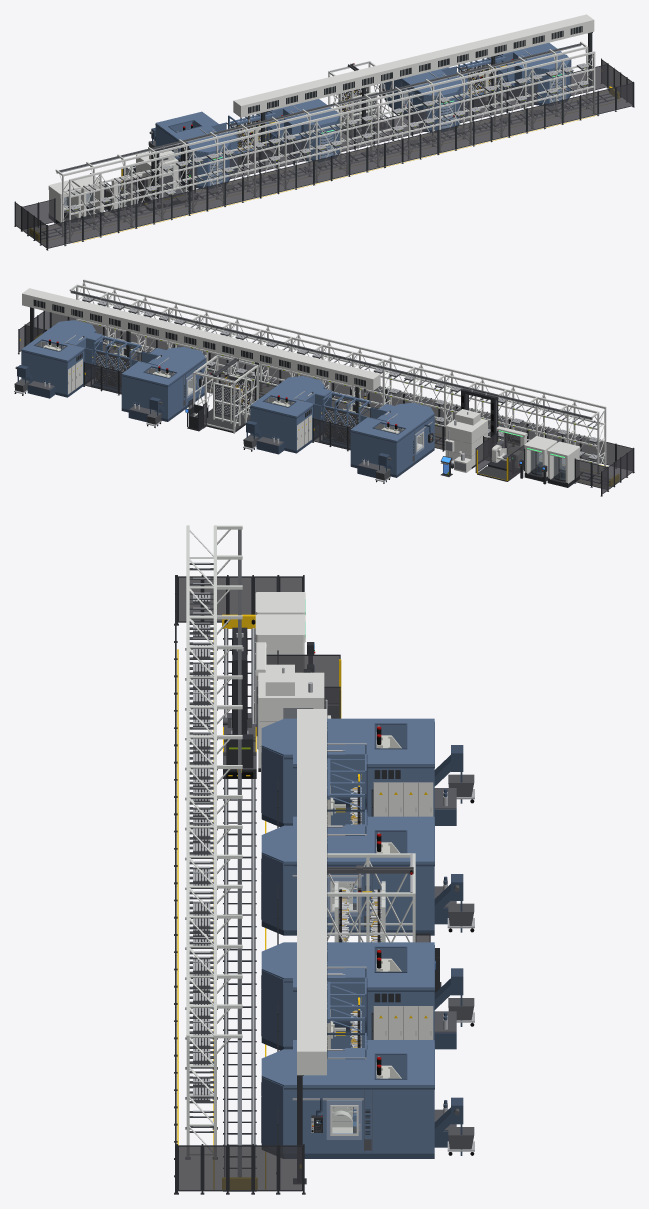
The model's file is fms_line_4hmc_blue.glb.
The picture shows the model from 3 angles, top to bottom: view 1: azimuth 30°, elevation 25°; view 2: azimuth 150°, elevation 25°; view 3: azimuth 270°, elevation 25°; orthographic projection. The views are drawn at different scales.
Visible parts, largest first — view 1: RACK_rack_frame__truss_white, FB_fence__mesh, TG_tg_beam__hmc_white, FB_fence__anthracite, RACK_rack_frame__steel_dark, TG_tg_beam__anthracite, MT1_enclosure__fms_blue, MT3_enclosure__fms_blue, RACK_rack_frame__steel, FG6_fence__mesh, FG5_fence__mesh, FG7_fence__mesh (+19 smaller); view 2: RACK_rack_frame__truss_white, TG_tg_beam__hmc_white, FB_fence__mesh, MT1_enclosure__fms_blue, MT3_enclosure__fms_blue, MT2_enclosure__fms_blue, MT4_enclosure__fms_blue, RACK_rack_frame__steel_dark, CTR_ctr_frame__truss_white, TG_tg_beam__anthracite, WASH_wash_cabinet__hmc_white, RACK_rack_frame__steel (+35 smaller); view 3: MT4_enclosure__fms_blue, RACK_rack_frame__truss_white, TG_tg_beam__hmc_white, MT2_enclosure__fms_blue, RACK_rack_frame__steel_dark, MT1_enclosure__fms_blue, MT3_enclosure__fms_blue, FE47_fence__mesh, trk_track__steel_dark, WASH_wash_cabinet__hmc_white, MT2_apc_housing__fms_blue, MT1_apc_housing__fms_blue (+28 smaller).
Part boxes in pixels (x1=…): RACK_rack_frame__truss_white: x1=55, y1=41, x2=595, y2=241; FB_fence__mesh: x1=48, y1=83, x2=632, y2=247; TG_tg_beam__hmc_white: x1=233, y1=14, x2=594, y2=117; FB_fence__anthracite: x1=47, y1=82, x2=634, y2=250; RACK_rack_frame__steel_dark: x1=56, y1=43, x2=589, y2=227; TG_tg_beam__anthracite: x1=248, y1=26, x2=592, y2=165; MT1_enclosure__fms_blue: x1=155, y1=111, x2=237, y2=174; MT3_enclosure__fms_blue: x1=385, y1=67, x2=467, y2=125; RACK_rack_frame__steel: x1=56, y1=45, x2=587, y2=218; FG6_fence__mesh: x1=341, y1=109, x2=427, y2=151; FG5_fence__mesh: x1=229, y1=138, x2=307, y2=178; FG7_fence__mesh: x1=459, y1=82, x2=537, y2=122; RACK_rack_frame__truss_white: x1=69, y1=279, x2=606, y2=473; TG_tg_beam__hmc_white: x1=22, y1=288, x2=380, y2=390; FB_fence__mesh: x1=51, y1=312, x2=632, y2=469; MT1_enclosure__fms_blue: x1=350, y1=404, x2=432, y2=475; MT3_enclosure__fms_blue: x1=121, y1=348, x2=203, y2=419; MT2_enclosure__fms_blue: x1=250, y1=379, x2=331, y2=450; MT4_enclosure__fms_blue: x1=21, y1=323, x2=102, y2=394; RACK_rack_frame__steel_dark: x1=70, y1=290, x2=600, y2=461; CTR_ctr_frame__truss_white: x1=193, y1=355, x2=258, y2=433; TG_tg_beam__anthracite: x1=30, y1=299, x2=365, y2=425; WASH_wash_cabinet__hmc_white: x1=445, y1=409, x2=487, y2=472; RACK_rack_frame__steel: x1=70, y1=292, x2=596, y2=460; MT4_enclosure__fms_blue: x1=293, y1=1040, x2=434, y2=1153; RACK_rack_frame__truss_white: x1=186, y1=525, x2=242, y2=1157; TG_tg_beam__hmc_white: x1=297, y1=709, x2=326, y2=1075; MT2_enclosure__fms_blue: x1=293, y1=816, x2=434, y2=930; RACK_rack_frame__steel_dark: x1=185, y1=529, x2=241, y2=1158; MT1_enclosure__fms_blue: x1=293, y1=718, x2=434, y2=825; MT3_enclosure__fms_blue: x1=293, y1=942, x2=434, y2=1049; FE47_fence__mesh: x1=179, y1=1146, x2=276, y2=1190; trk_track__steel_dark: x1=224, y1=628, x2=255, y2=1176; WASH_wash_cabinet__hmc_white: x1=258, y1=664, x2=330, y2=768; MT2_apc_housing__fms_blue: x1=261, y1=825, x2=292, y2=930; MT1_apc_housing__fms_blue: x1=261, y1=718, x2=292, y2=823.
Bounding box in the file's own units: 49.56 × 5.4 × 11.05.
33 materials, 2 textured.
